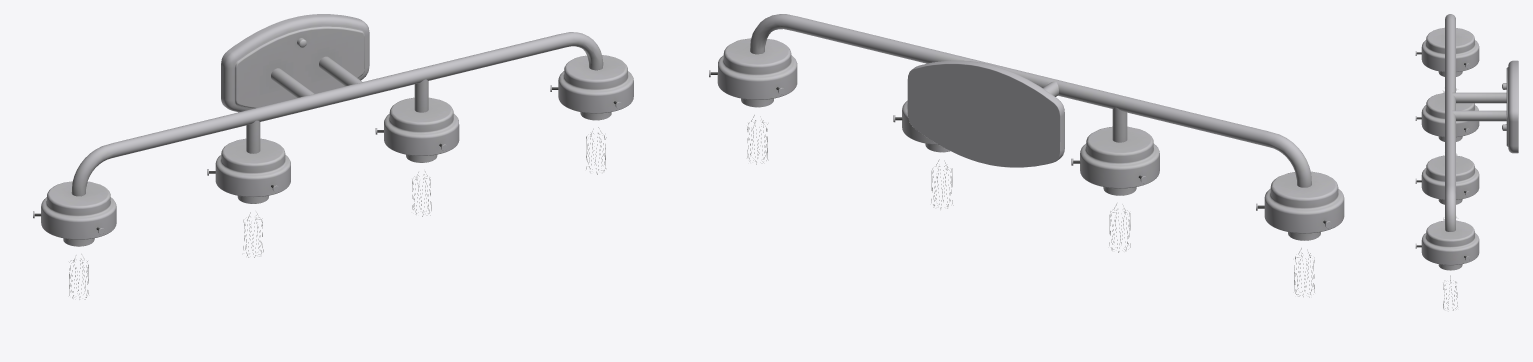
The model's file is abo-B07B4SC2KW.glb.
The picture shows the model from 3 angles, left to right: view 1: azimuth 30°, elevation 25°; view 2: azimuth 150°, elevation 25°; view 3: azimuth 270°, elevation 25°; orthographic projection. The views are drawn at different scales.
Size of the model in its own units: 0.838 by 0.2919 by 0.177.
Materials: 1 (1 with a texture image).
